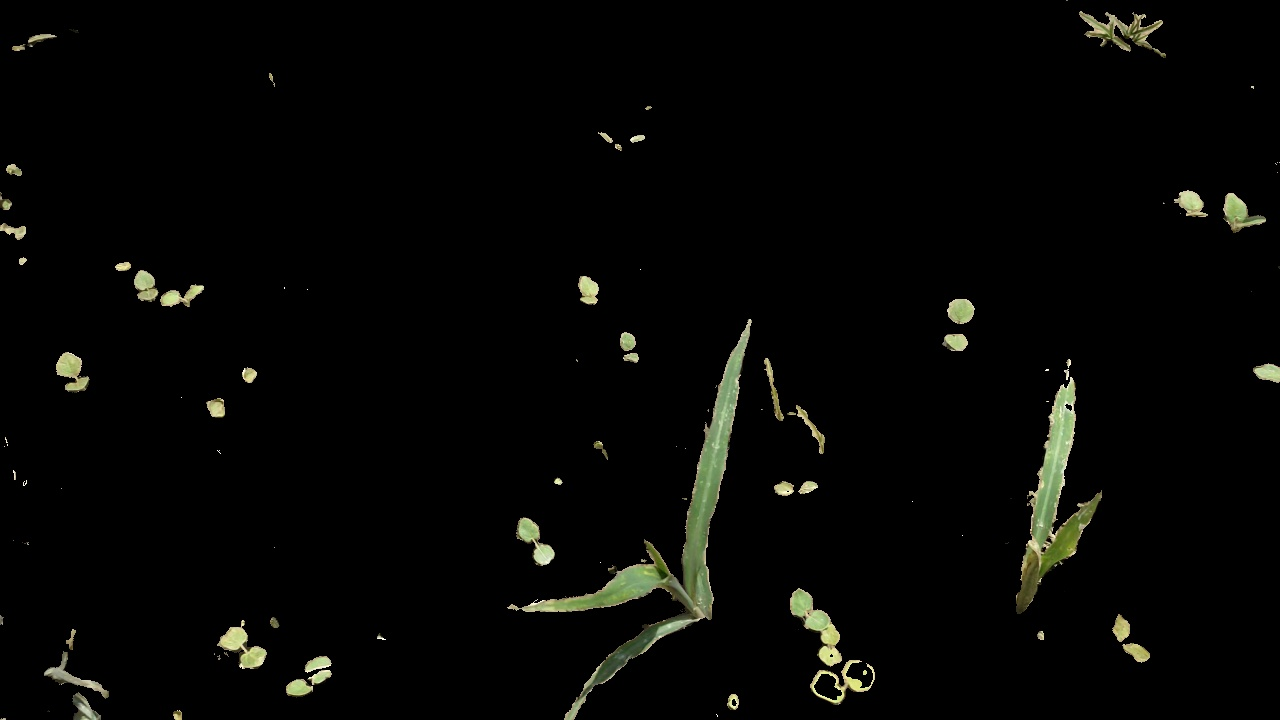crop: (491, 542, 724, 718), (649, 313, 758, 635), (1009, 360, 1135, 611)
weed: (784, 581, 880, 710), (1067, 1, 1187, 71), (123, 264, 210, 313), (937, 281, 980, 361), (217, 616, 271, 671), (1109, 615, 1157, 669), (513, 519, 565, 568), (287, 645, 331, 702), (1220, 183, 1266, 235), (47, 352, 101, 396), (776, 463, 822, 513), (194, 392, 250, 430), (1172, 181, 1210, 231), (594, 128, 658, 153), (615, 327, 647, 372), (577, 274, 609, 308)
